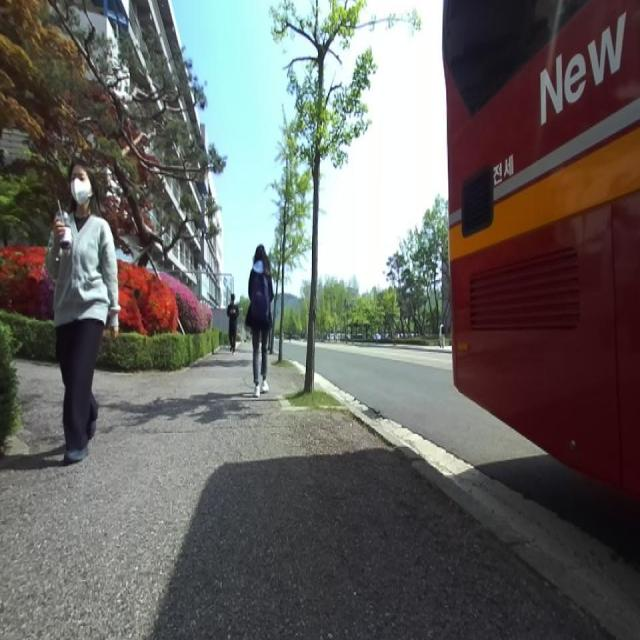sidewalk: (0, 344, 624, 640)
